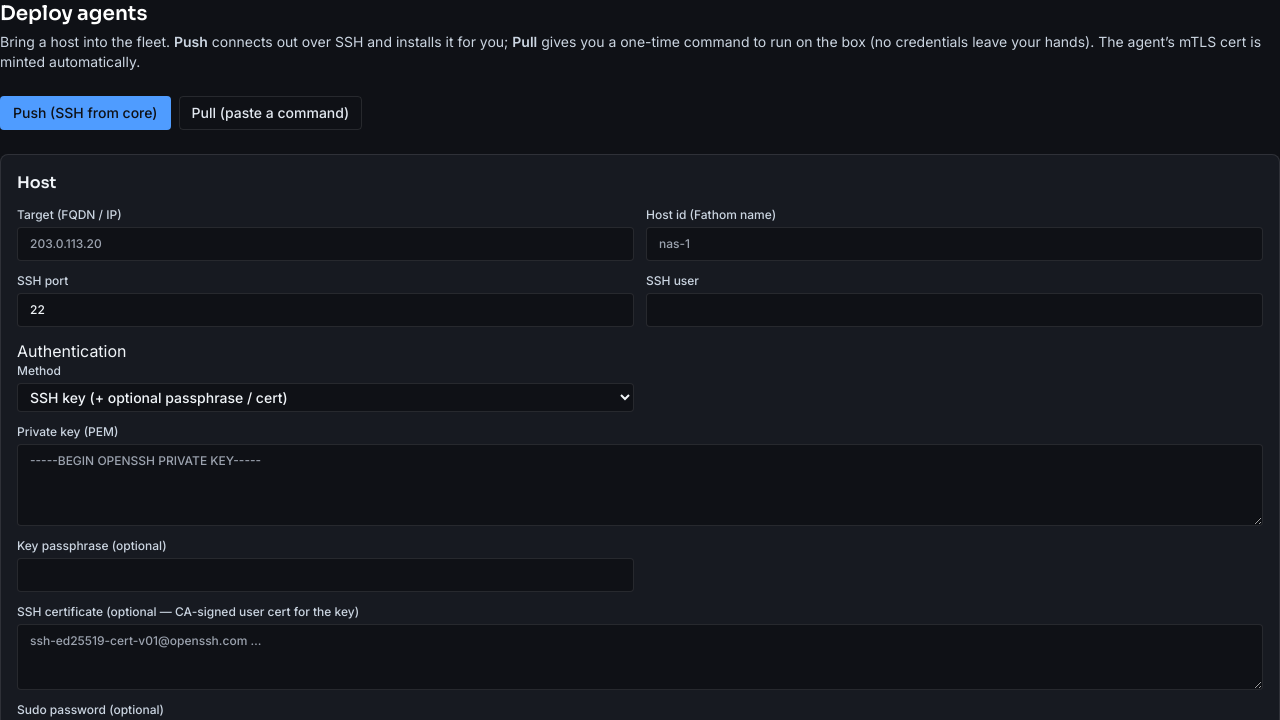
Test case: Deploy page › clears a pending step-up when switching modes (round-3 P2)
The width and height of the screenshot is (1280, 720).
Click the tab "Pull (paste a command)" at {"x": 270, "y": 113}, box [178,96,362,130]
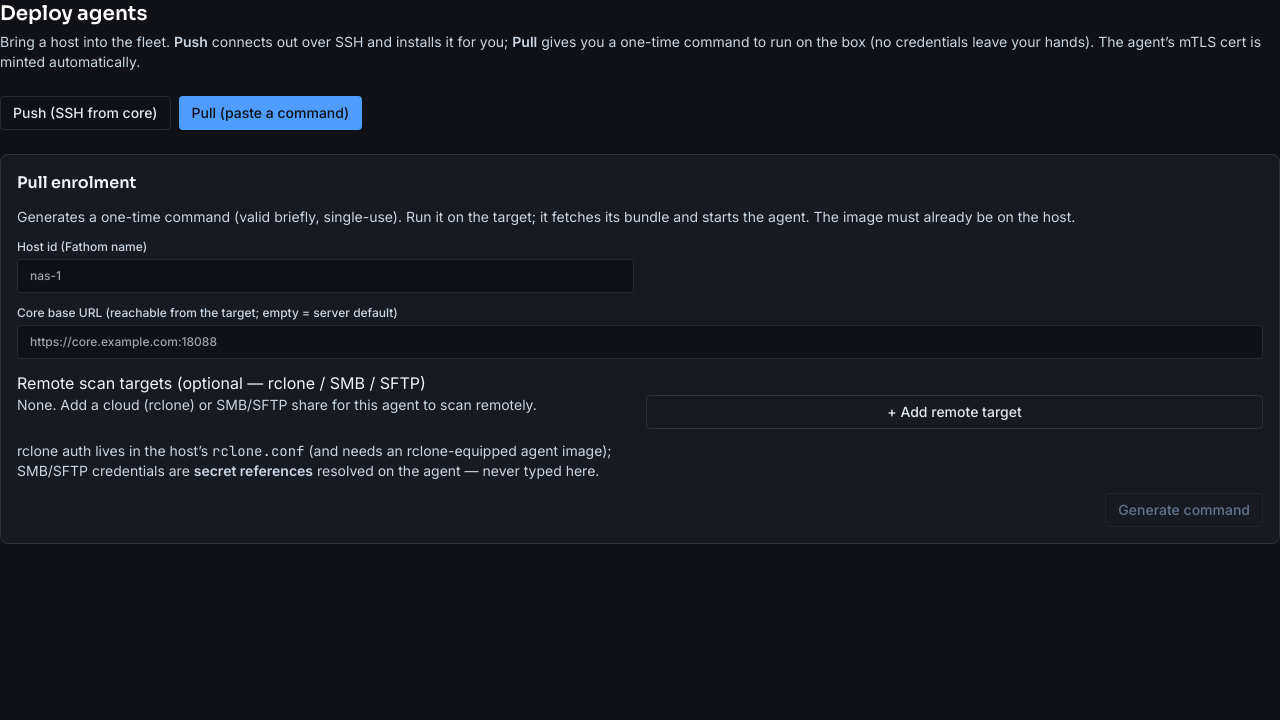
Type "h" into the field with placeholder "nas-1" at {"x": 326, "y": 276}, box [17,259,634,293]
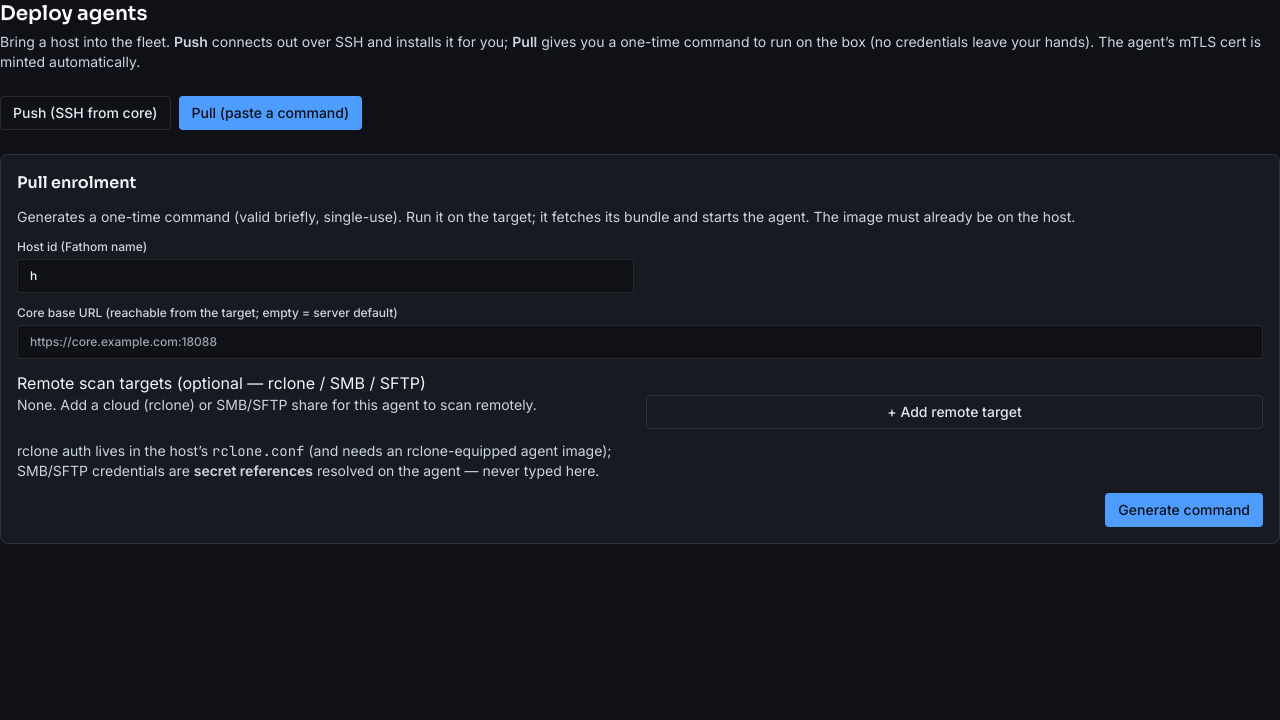
Click the button "Generate command" at {"x": 1184, "y": 510}, box [1105,493,1263,527]
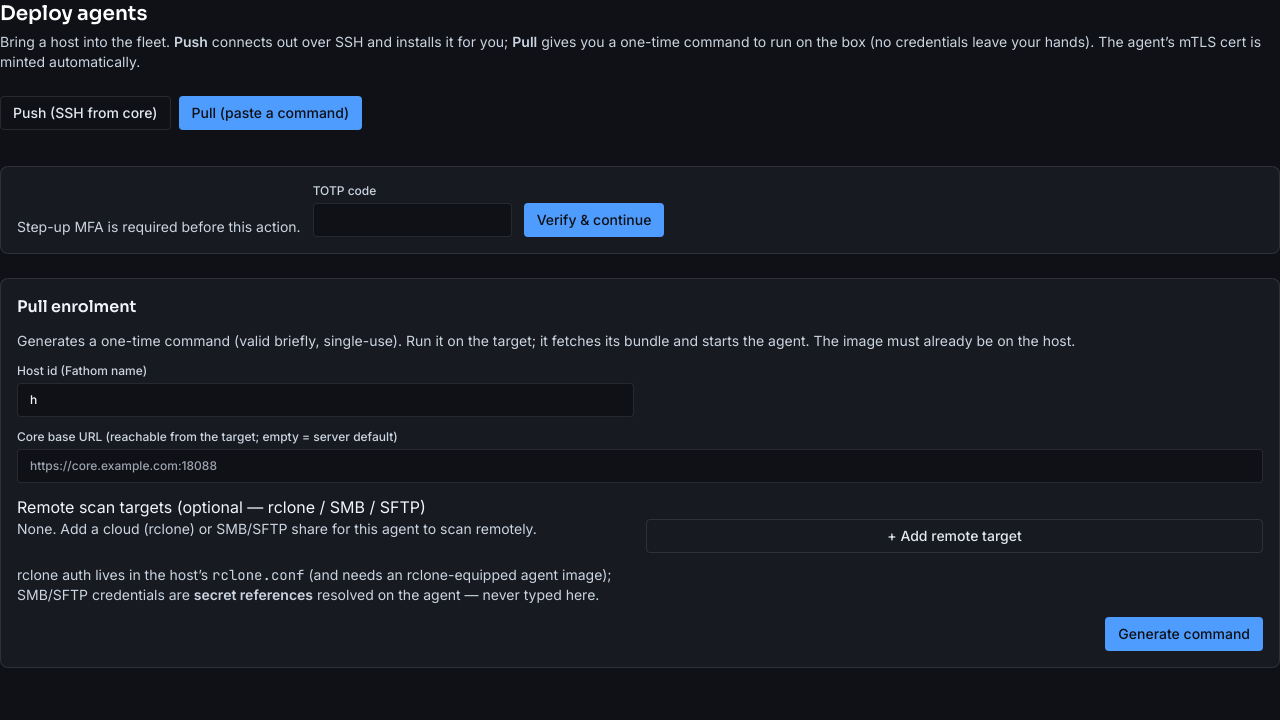
Click the tab "Push (SSH from core)" at {"x": 85, "y": 113}, box [0,96,170,130]
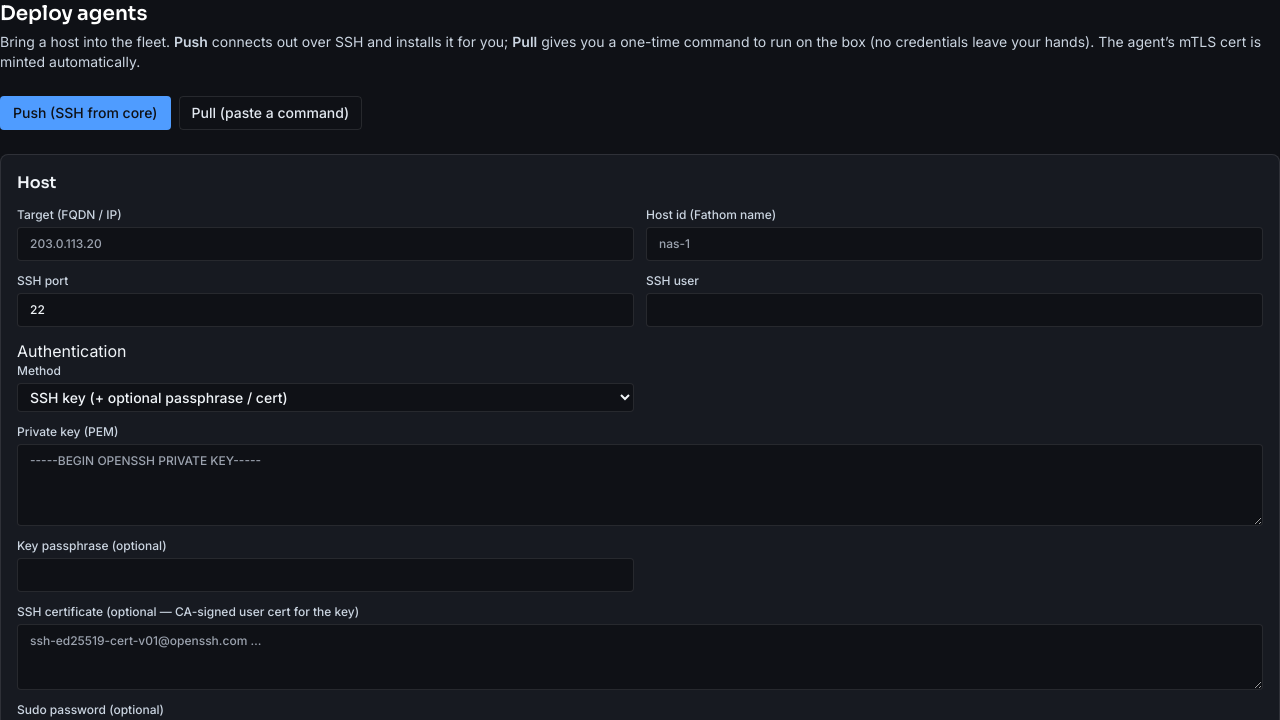
Result: the label labelled "TOTP code" is gone
